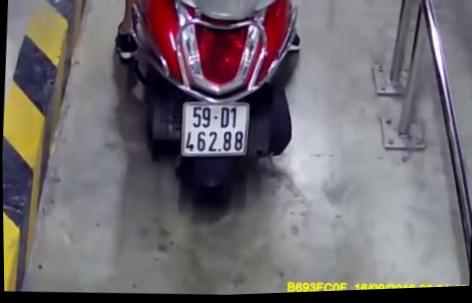LP: (178, 99, 250, 162)
